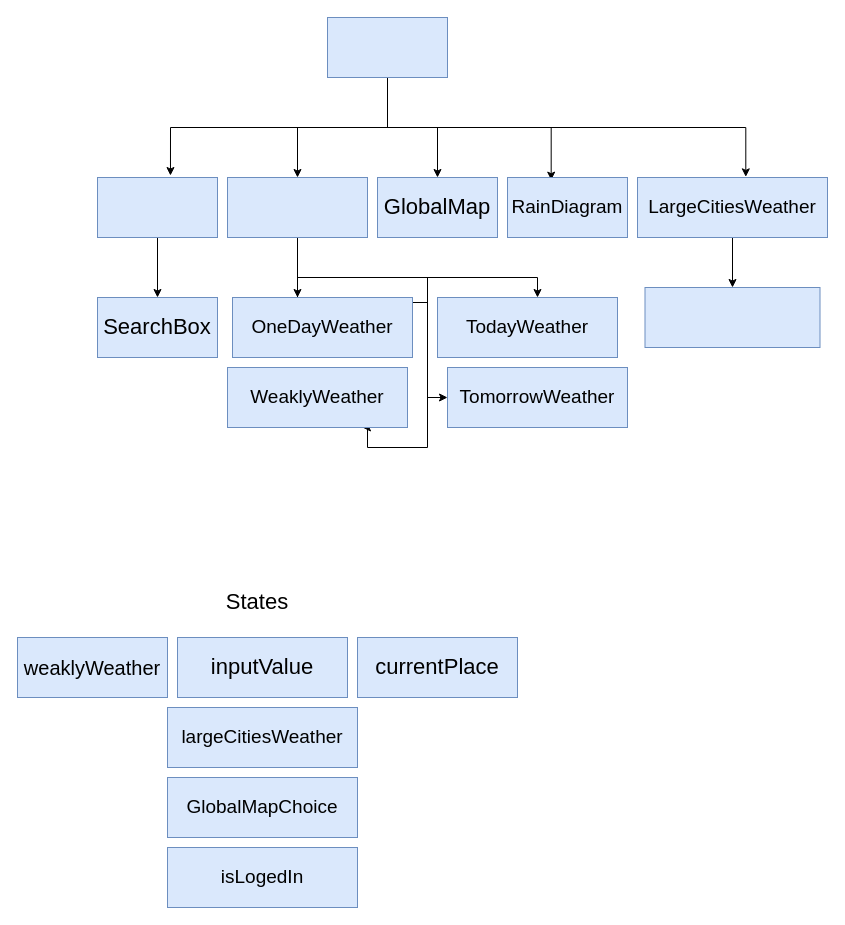
This 845x925 diagram has some shape labels left out. The shapes that lost their labels are listed below. From the top down, each one's centre as x and y in pixels, then its label:
(x=387, y=47): App
(x=157, y=207): Header.js
(x=297, y=207): WeatherList
(x=732, y=317): CityWeather
